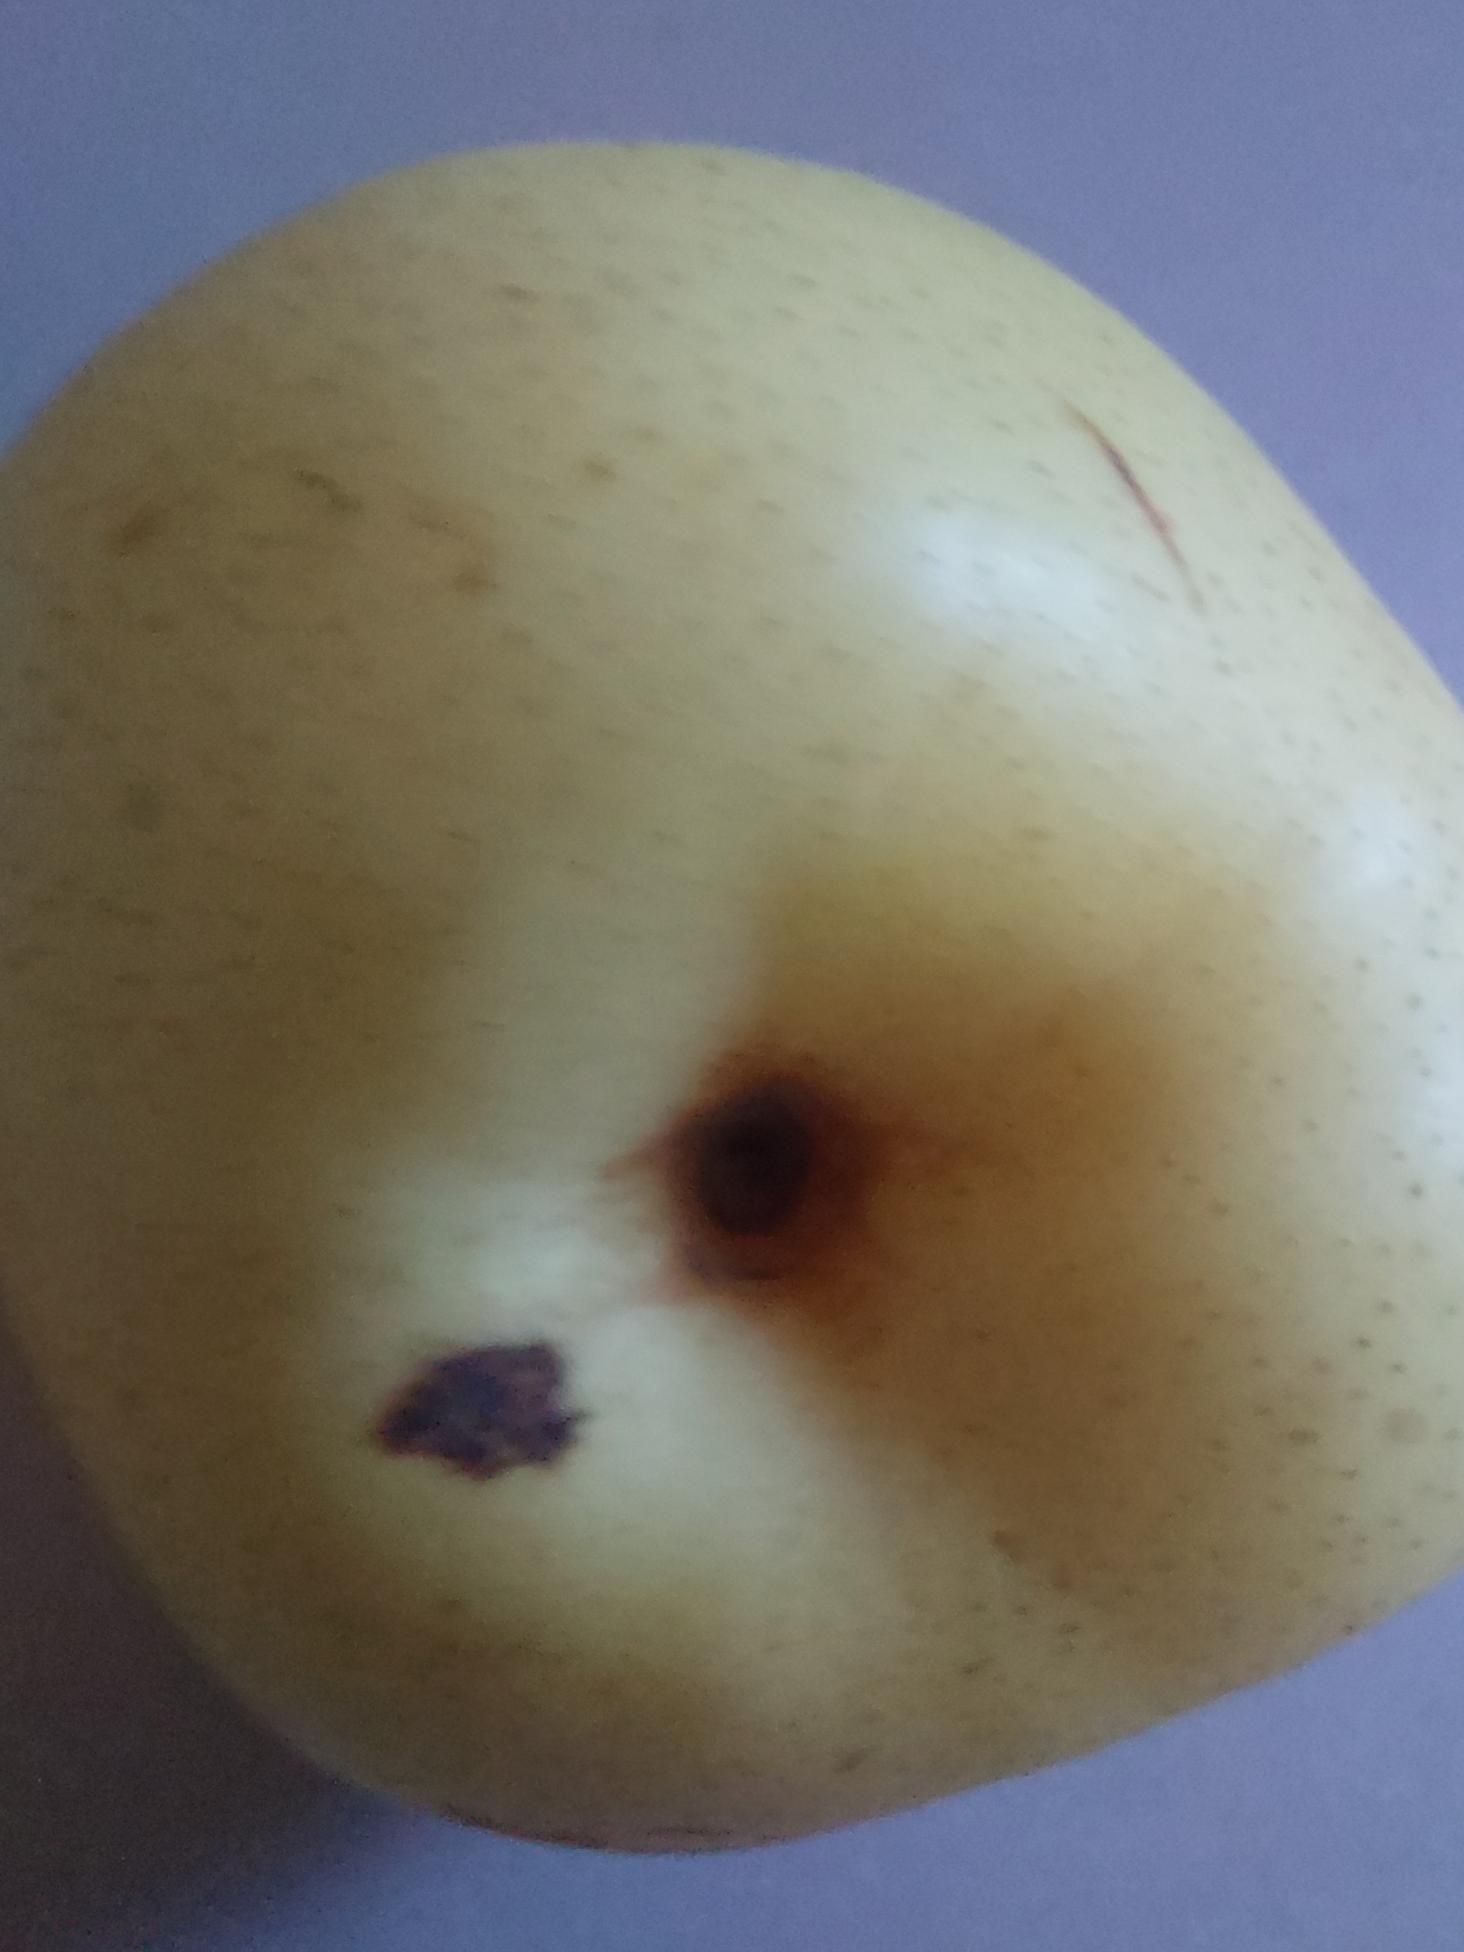Good Pear: (0, 128, 1464, 1863)
